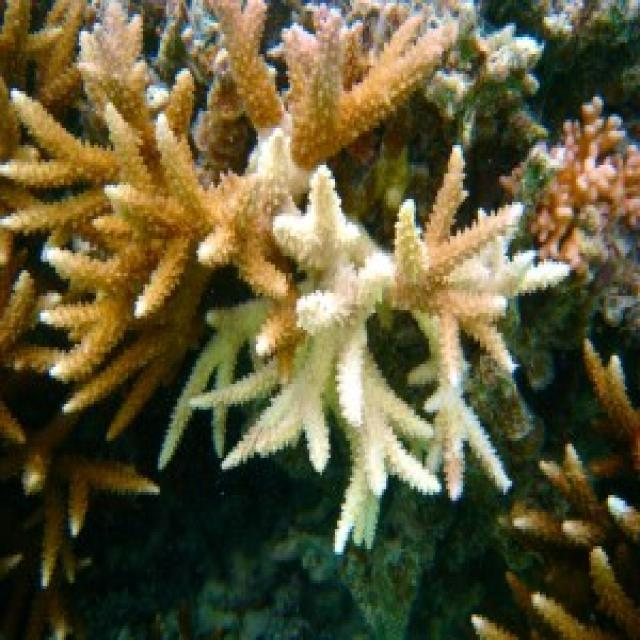Bleached: (210, 146, 554, 521), (77, 5, 143, 80), (605, 493, 627, 523), (8, 87, 30, 117), (154, 105, 175, 136), (105, 180, 127, 204), (198, 242, 216, 269), (132, 292, 148, 321), (1, 155, 17, 184), (46, 247, 64, 272), (48, 360, 65, 383), (37, 308, 55, 329), (21, 474, 39, 492), (1, 212, 15, 234), (39, 569, 53, 590), (71, 523, 84, 540), (64, 403, 78, 416)
Healthy: (1, 1, 212, 640), (480, 343, 640, 640), (208, 1, 456, 132)
